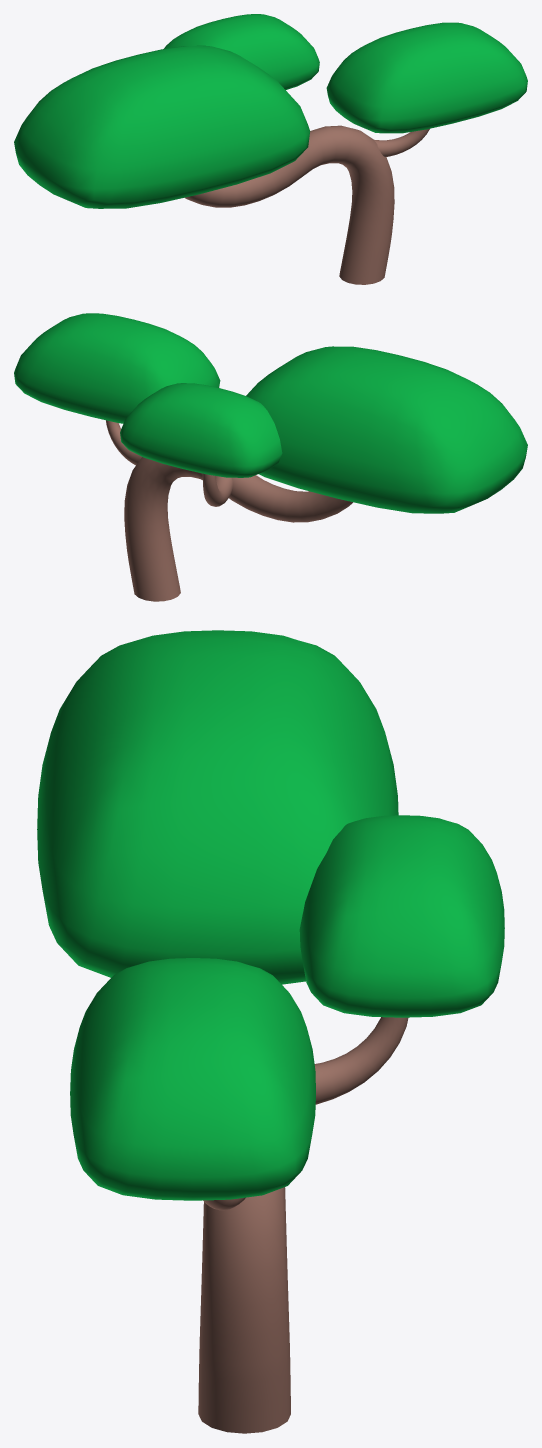
File: Farm_12_Tree_1.glb
3 views of the same model, one above another, from view 1: azimuth 30°, elevation 25°; view 2: azimuth 150°, elevation 25°; view 3: azimuth 270°, elevation 25° (orthographic). The views are drawn at different scales.
Visible parts, largest first — view 1: Farm_12_Tree_1; view 2: Farm_12_Tree_1; view 3: Farm_12_Tree_1.
Boxes of the visible parts, x1=… form: Farm_12_Tree_1: x1=14, y1=14, x2=527, y2=284; Farm_12_Tree_1: x1=14, y1=313, x2=527, y2=601; Farm_12_Tree_1: x1=37, y1=630, x2=504, y2=1433.
Size of the model in its own units: 10.59 by 5.75 by 4.54.
Materials: 1 (1 with a texture image).
